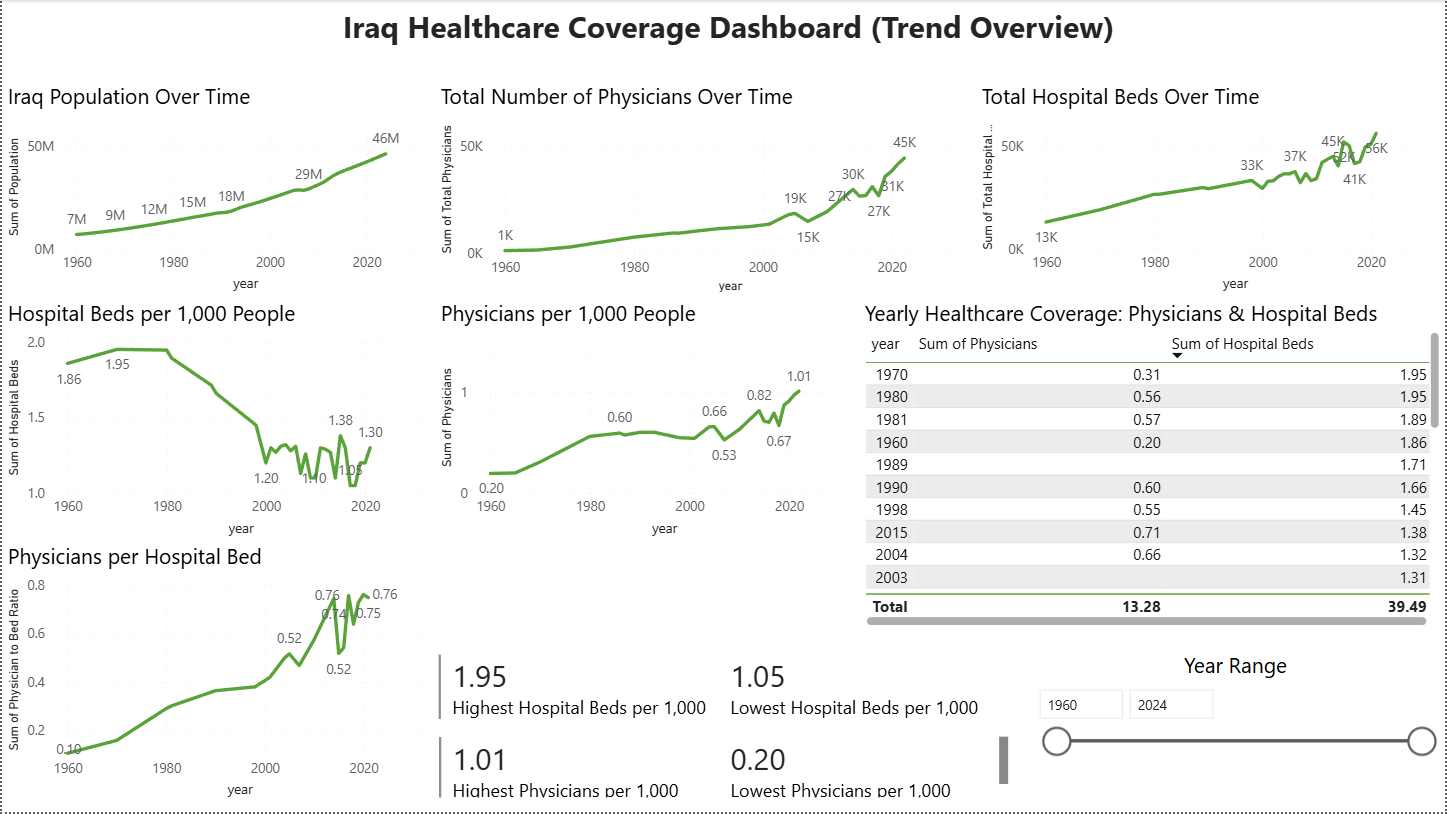

Layout of this report page (visuals, bound fields, positions):
{"tool":"powerbi","page":{"name":"Iraq Healthcare Over Time","canvas":[1280,720],"ordinal":0},"visuals":[{"type":"lineChart","title":"Iraq Population Over Time ","fields":{"Category":["Population - Iraq.year"],"Y":["Sum(Population - Iraq.Population)"]},"box":[0,72,384,192],"z":0},{"type":"lineChart","title":"Hospital Beds per 1,000 People","fields":{"Category":["Hospital Beds - Iraq.year"],"Y":["Sum(Hospital Beds - Iraq.Hospital Beds)"]},"box":[0,264,384,216],"z":1000},{"type":"lineChart","title":"Physicians per 1,000 People ","fields":{"Category":["Physicians - Iraq.year"],"Y":["Sum(Physicians - Iraq.Physicians)"]},"box":[384,264,376,216],"z":2000},{"type":"lineChart","title":"Total Hospital Beds Over Time ","fields":{"Category":["Hospital Beds + Population.year"],"Y":["Sum(Hospital Beds + Population.Total Hospital Beds)"]},"box":[864,72,416,192],"z":3000},{"type":"lineChart","title":"Total Number of Physicians Over Time","fields":{"Category":["Physicians + Population.year"],"Y":["Sum(Physicians + Population.Total Physicians)"]},"box":[384,72,480,192],"z":4000},{"type":"lineChart","title":"Physicians per Hospital Bed","fields":{"Category":["Physicians + Hospital Beds.year"],"Y":["Sum(Physicians + Hospital Beds.Physician to Bed Ratio)"]},"box":[0,479.7,382.2,232.3],"z":5000},{"type":"tableEx","title":"Yearly Healthcare Coverage: Physicians & Hospital Beds","fields":{"Values":["Physicians + Hospital Beds.year","Physicians + Hospital Beds.Physicians","Physicians + Hospital Beds.Hospital Beds"]},"box":[760,264,520,296],"z":6000},{"type":"slicer","title":"Year Range ","fields":{"Values":["Hospital Beds - Iraq.year"]},"box":[907.1,576.4,373.3,143.6],"z":7000},{"type":"multiRowCard","fields":{"Values":["Physicians + Hospital Beds.Highest Hospital Beds per 1,000","Physicians + Hospital Beds.Lowest Hospital Beds per 1,000"]},"box":[382.4,575.5,515.2,72.7],"z":8000},{"type":"multiRowCard","fields":{"Values":["Physicians + Hospital Beds.Highest Physicians per 1,000","Physicians + Hospital Beds.Lowest Physicians per 1,000"]},"box":[382.4,648.2,515.2,63.8],"z":9000},{"type":"textbox","box":[296,0,696,72],"z":10000}]}

Visuals, with their boxes in screenshot pixels (x1, y1, x2, y2), scaled from the page's 1280x720 canvas onto the 1447x814 screenshot:
"Iraq Population Over Time " lineChart: 0,81,434,298
"Hospital Beds per 1,000 People" lineChart: 0,298,434,543
"Physicians per 1,000 People " lineChart: 434,298,859,543
"Total Hospital Beds Over Time " lineChart: 977,81,1446,298
"Total Number of Physicians Over Time" lineChart: 434,81,977,298
"Physicians per Hospital Bed" lineChart: 0,542,432,805
"Yearly Healthcare Coverage: Physicians & Hospital Beds" tableEx: 859,298,1446,633
"Year Range " slicer: 1025,652,1446,813
multiRowCard - Physicians + Hospital Beds.Highest Hospital Beds per 1,000 x Physicians + Hospital Beds.Lowest Hospital Beds per 1,000: 432,651,1015,733
multiRowCard - Physicians + Hospital Beds.Highest Physicians per 1,000 x Physicians + Hospital Beds.Lowest Physicians per 1,000: 432,733,1015,805
textbox: 335,0,1121,81
